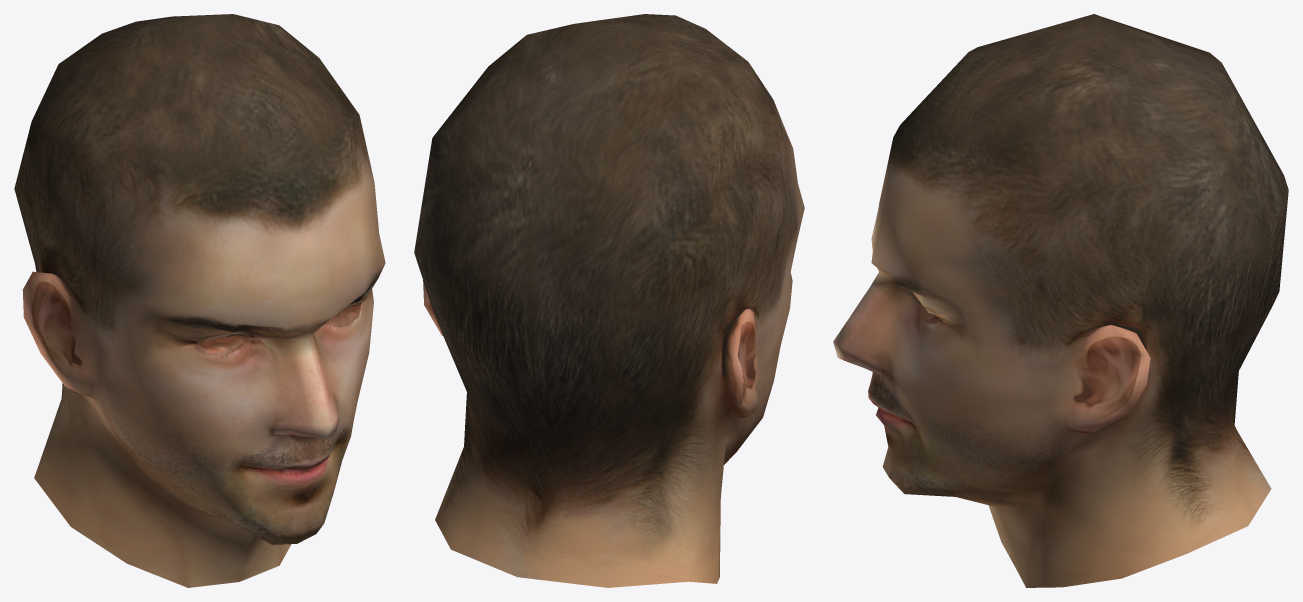
File: head_no_eyes.DAE
3 views of the same model, side by side, from view 1: azimuth 30°, elevation 25°; view 2: azimuth 150°, elevation 25°; view 3: azimuth 270°, elevation 25° (orthographic). The views are drawn at different scales.
Parts seen in each view (by area): view 1: objGroup3; view 2: objGroup3; view 3: objGroup3.
Boxes of the visible parts, x1,y1,x2,y2 form: objGroup3: (14,14,385,587); objGroup3: (414,14,804,587); objGroup3: (833,14,1288,587).
Bounding box in the file's own units: 6.19 × 8.04 × 10.53.
Materials: 1 (1 with a texture image).
